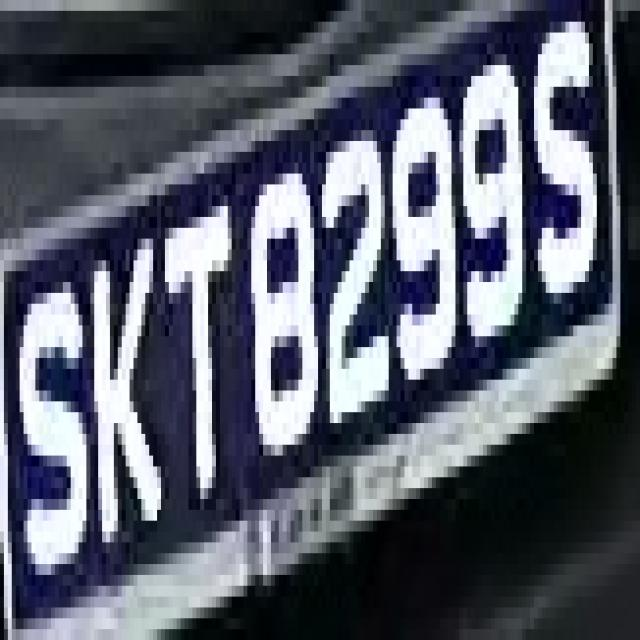2: (314, 98, 397, 444)
8: (240, 163, 318, 477)
9: (452, 43, 518, 434), (392, 65, 456, 423)
K: (75, 206, 165, 575)
S: (12, 228, 86, 607), (526, 22, 605, 325)
T: (157, 152, 240, 553)
